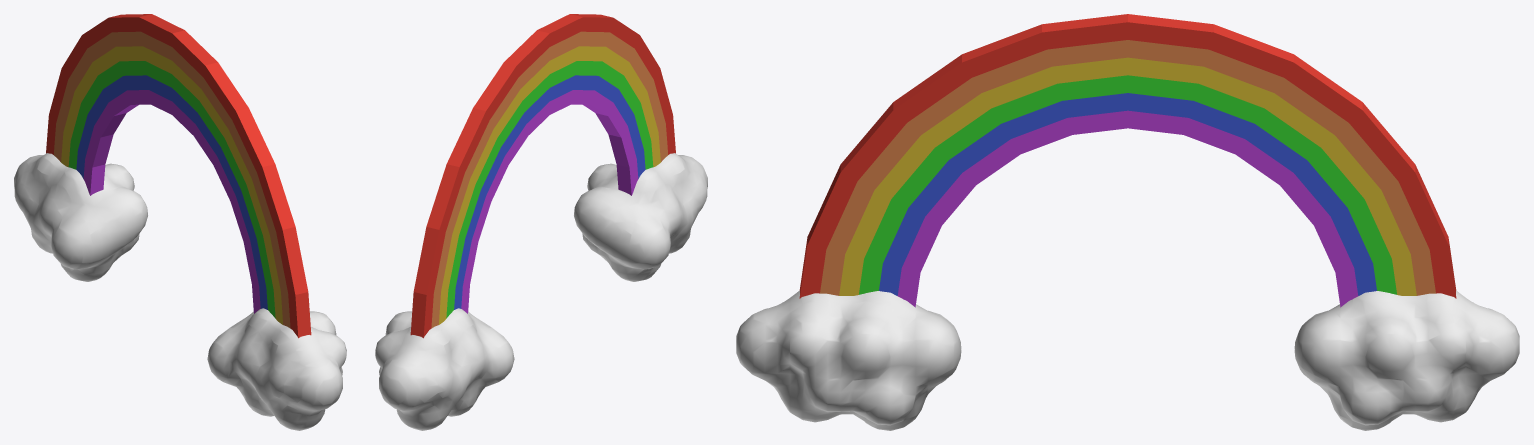
Rendered from rainbow.fbx.
3 views of the same model, side by side, from view 1: azimuth 30°, elevation 25°; view 2: azimuth 150°, elevation 25°; view 3: azimuth 270°, elevation 25° (orthographic). The views are drawn at different scales.
Visible parts, largest first — view 1: Mball.016; view 2: Mball.016; view 3: Mball.016.
Boxes of the visible parts, left/top/right/bottom form: Mball.016: left=14, top=14, right=346, bottom=430; Mball.016: left=375, top=14, right=707, bottom=430; Mball.016: left=736, top=14, right=1519, bottom=430.
Bounding box in the file's own units: 308 × 925 × 1606.
